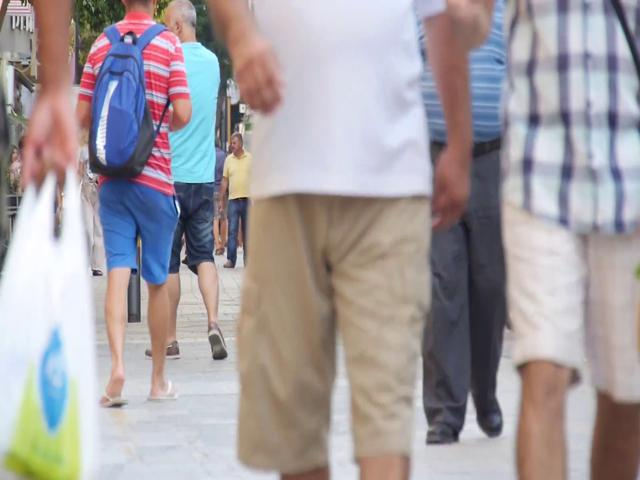shoe: (476, 397, 502, 437), (100, 375, 127, 406), (207, 322, 228, 360), (426, 420, 459, 443), (145, 340, 180, 359), (147, 381, 180, 401)
